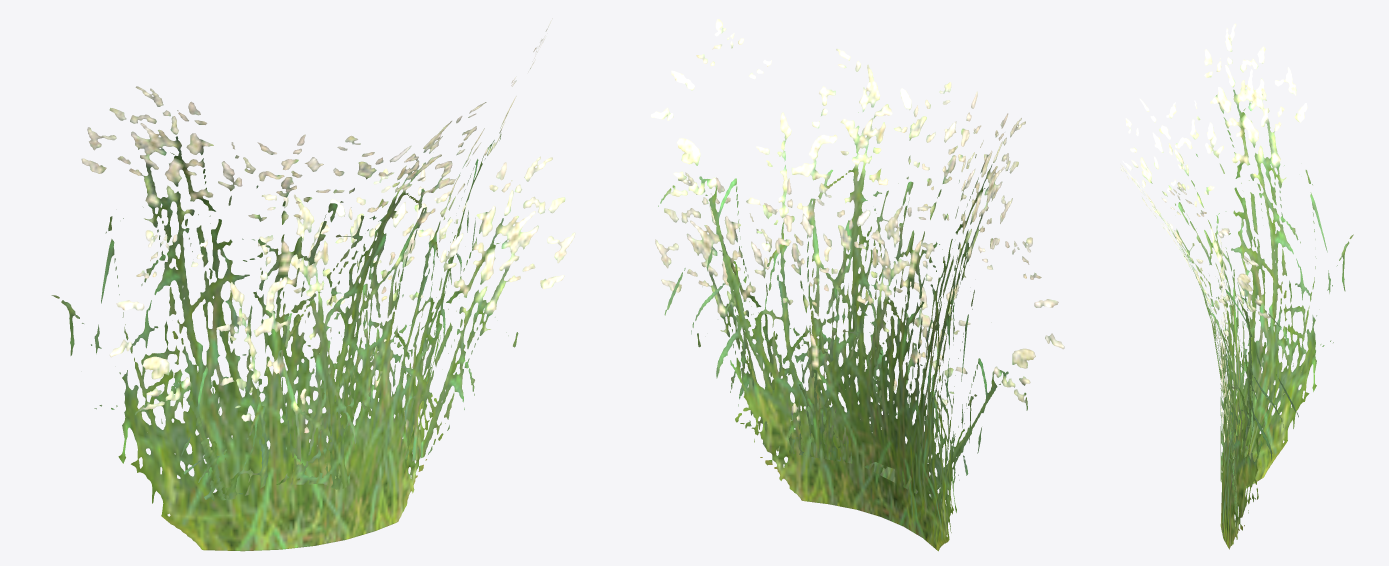
Rendered from grass-shrub.glb.
3 renders of one model, left to right at view 1: azimuth 30°, elevation 25°; view 2: azimuth 150°, elevation 25°; view 3: azimuth 270°, elevation 25°, orthographic. The views are drawn at different scales.
Visible parts, largest first — view 1: Object_3; view 2: Object_3; view 3: Object_3.
Part boxes in pixels (left/top/right/bottom): Object_3: left=51, top=18, right=575, bottom=551; Object_3: left=650, top=19, right=1064, bottom=551; Object_3: left=1120, top=23, right=1353, bottom=549.
Size of the model in its own units: 1.1 by 1.04 by 0.5858.
Materials: 1 (1 with a texture image).
